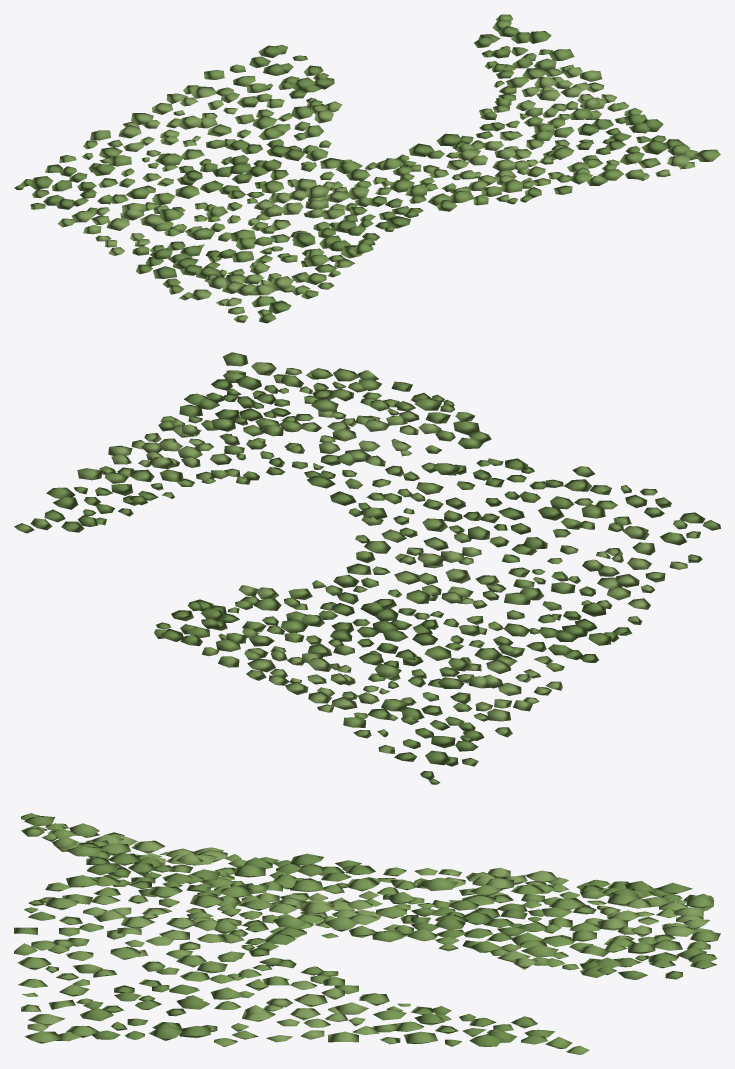
Rendered from canopy-1-1--2.glb.
3 renders of one model, top to bottom at view 1: azimuth 30°, elevation 25°; view 2: azimuth 150°, elevation 25°; view 3: azimuth 270°, elevation 25°, orthographic. The views are drawn at different scales.
Size of the model in its own units: 518 by 132 by 512.
Materials: 1 (1 with a texture image).
